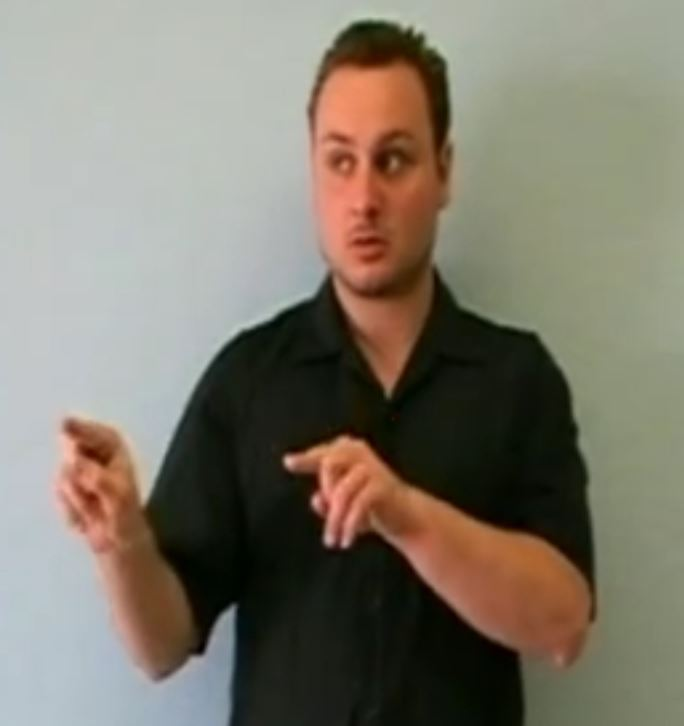go: (34, 392, 441, 589)
